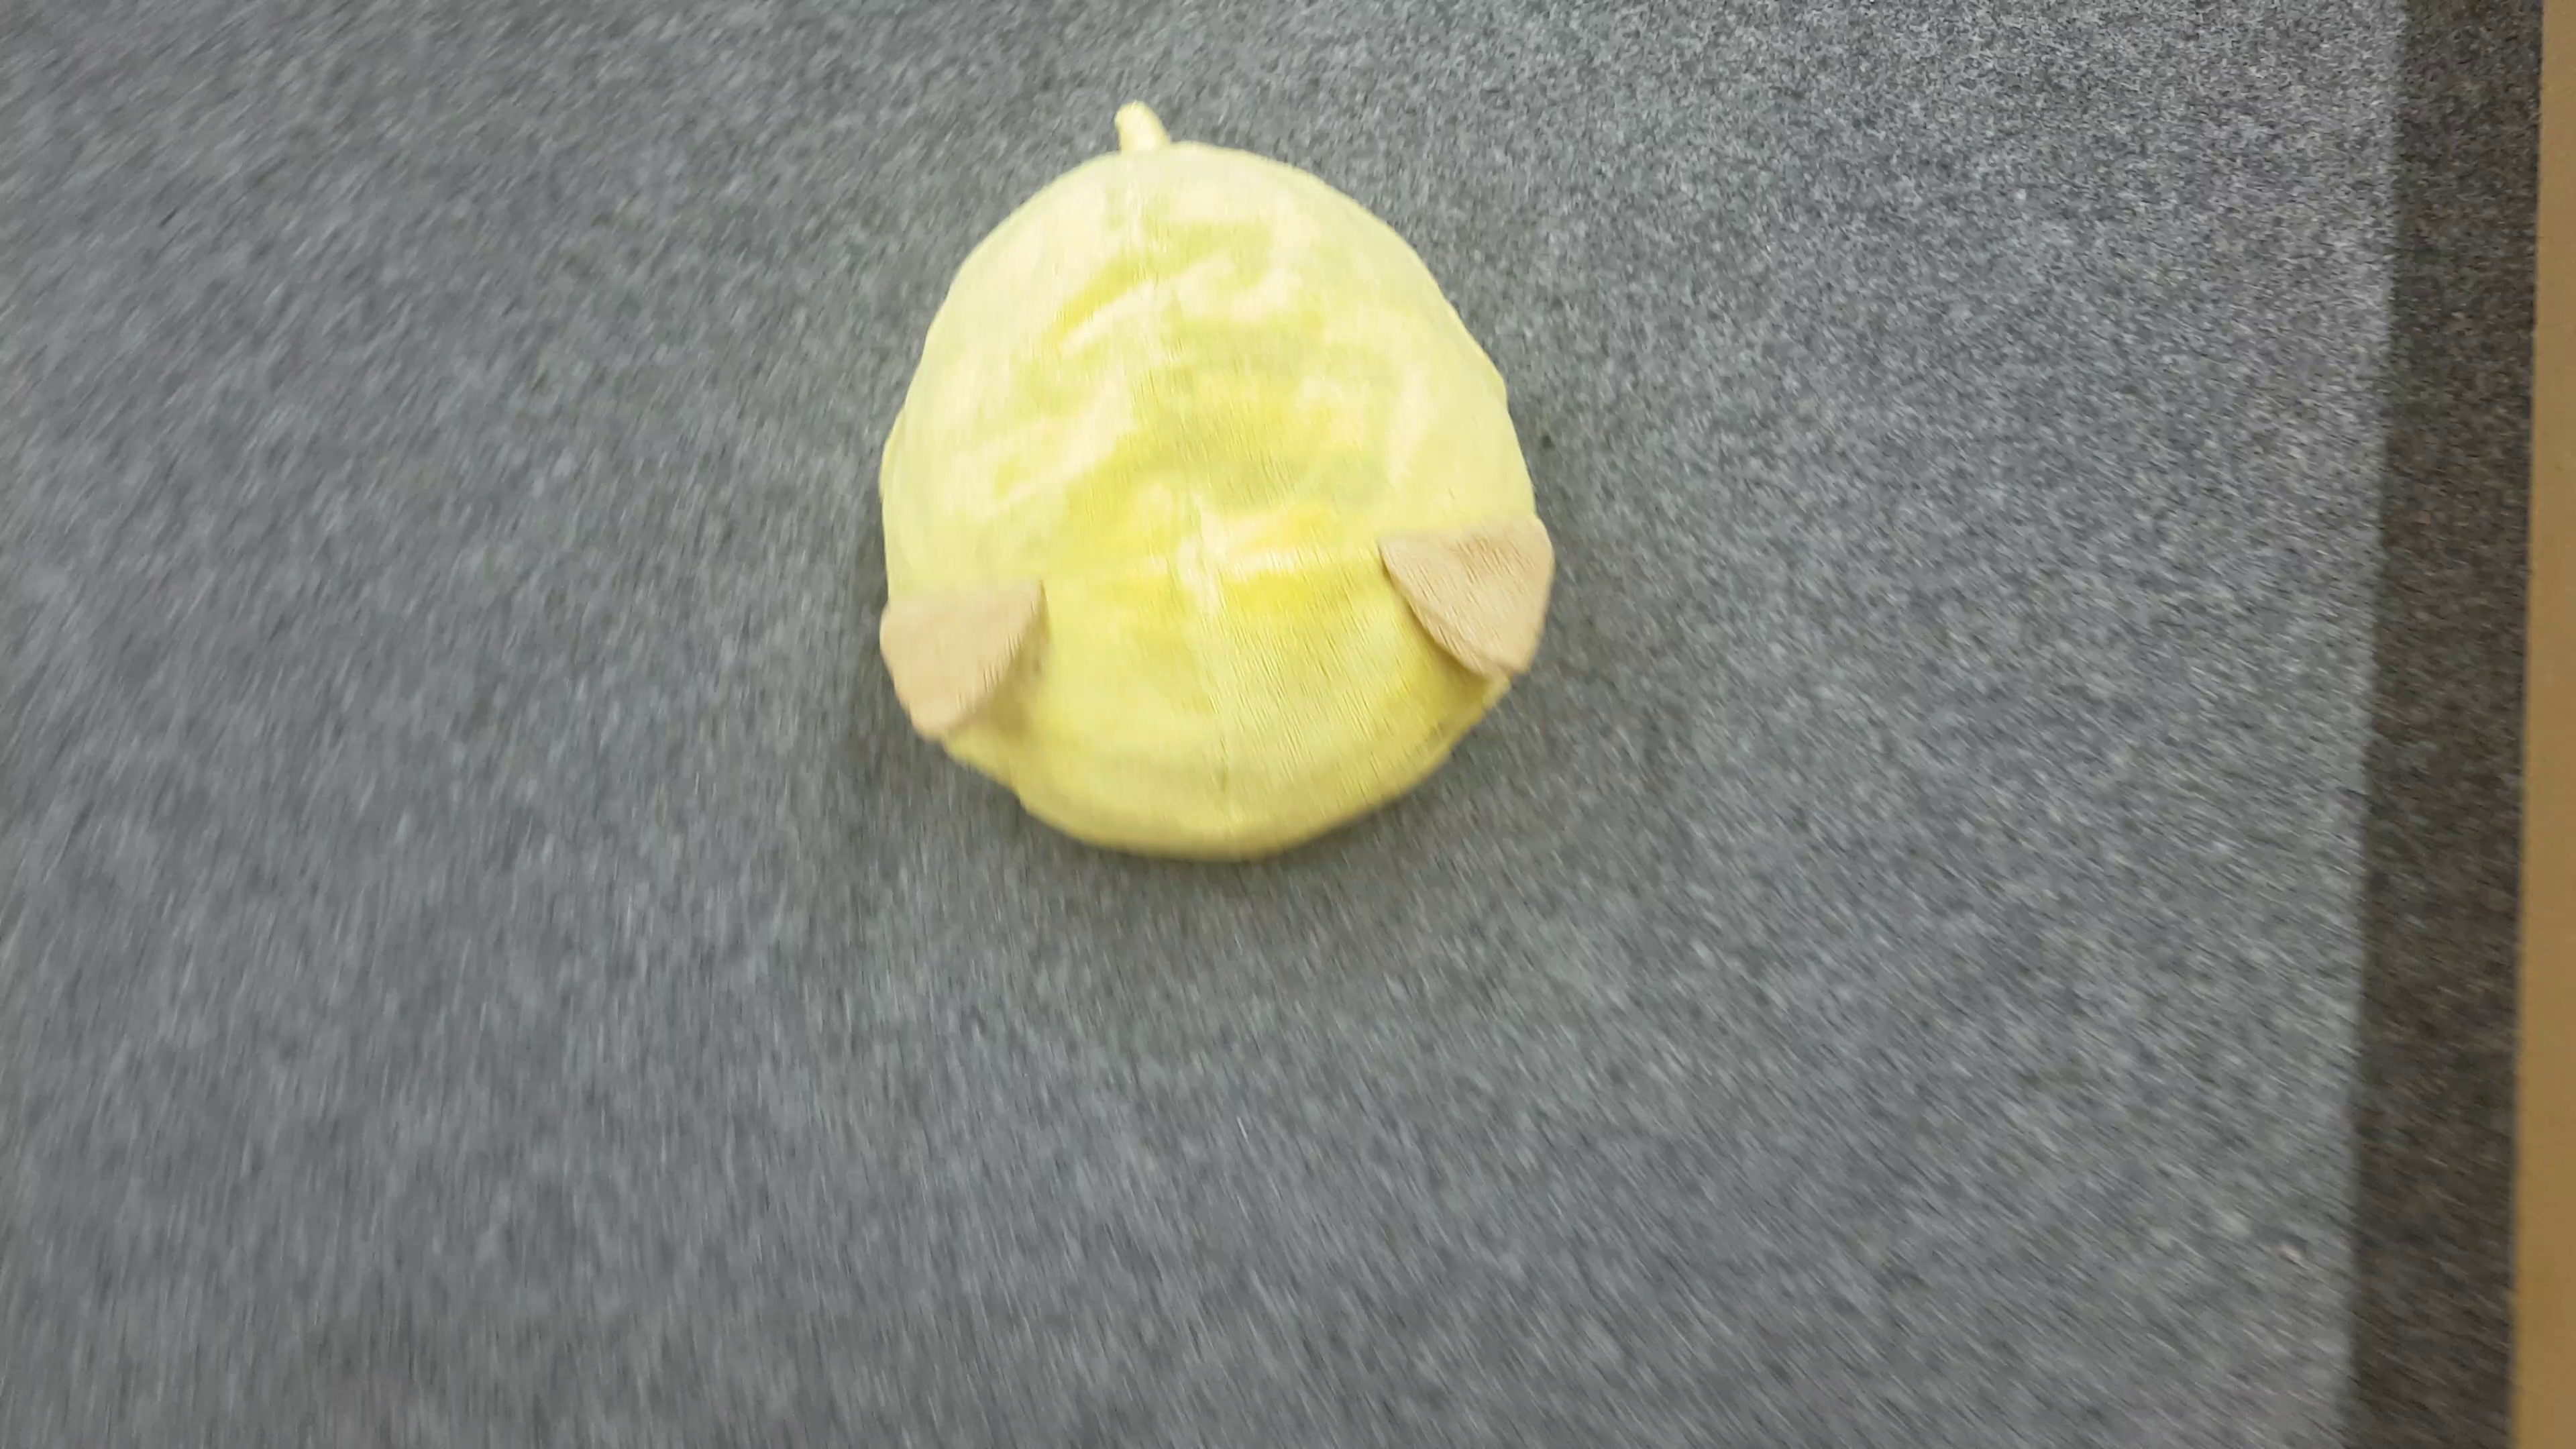grasp: (885, 99, 1562, 872)
